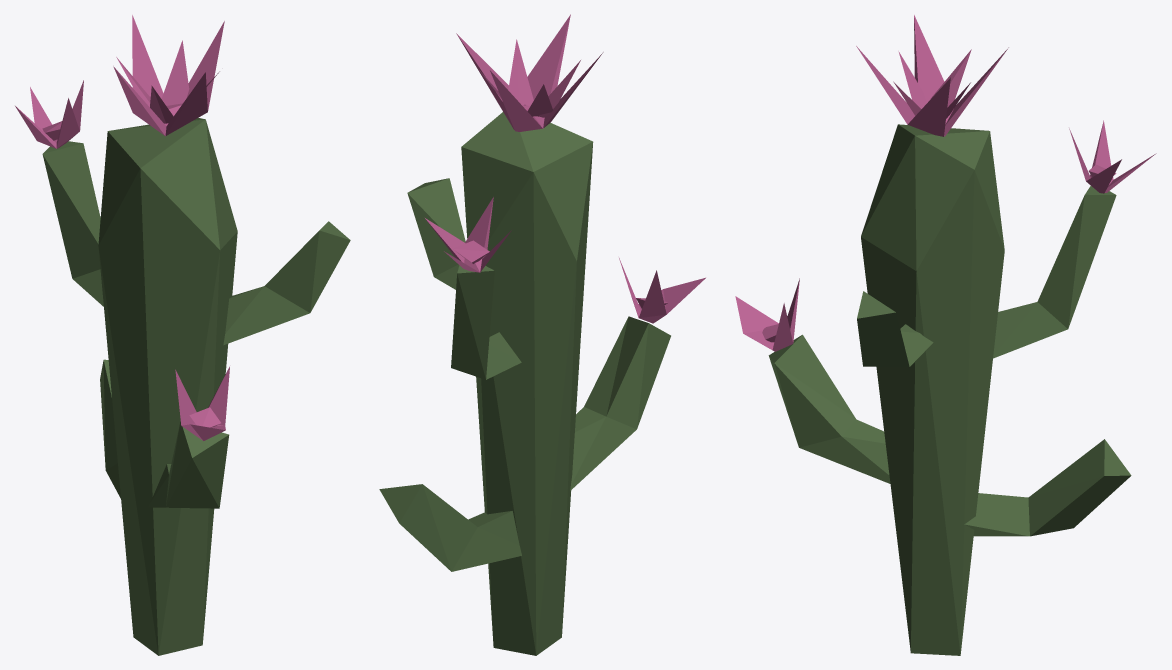
File: CactusFlowers_2.lod3.glb
The picture shows the model from 3 angles, left to right: view 1: azimuth 30°, elevation 25°; view 2: azimuth 150°, elevation 25°; view 3: azimuth 270°, elevation 25°; orthographic projection.
Parts seen in each view (by area): view 1: CactusFlowers_2; view 2: CactusFlowers_2; view 3: CactusFlowers_2.
Boxes of the visible parts, x1,y1,x2,y2 form: CactusFlowers_2: (15, 15, 350, 655); CactusFlowers_2: (379, 14, 705, 655); CactusFlowers_2: (735, 15, 1156, 655).
Size of the model in its own units: 0.7384 by 1.92 by 1.23.
